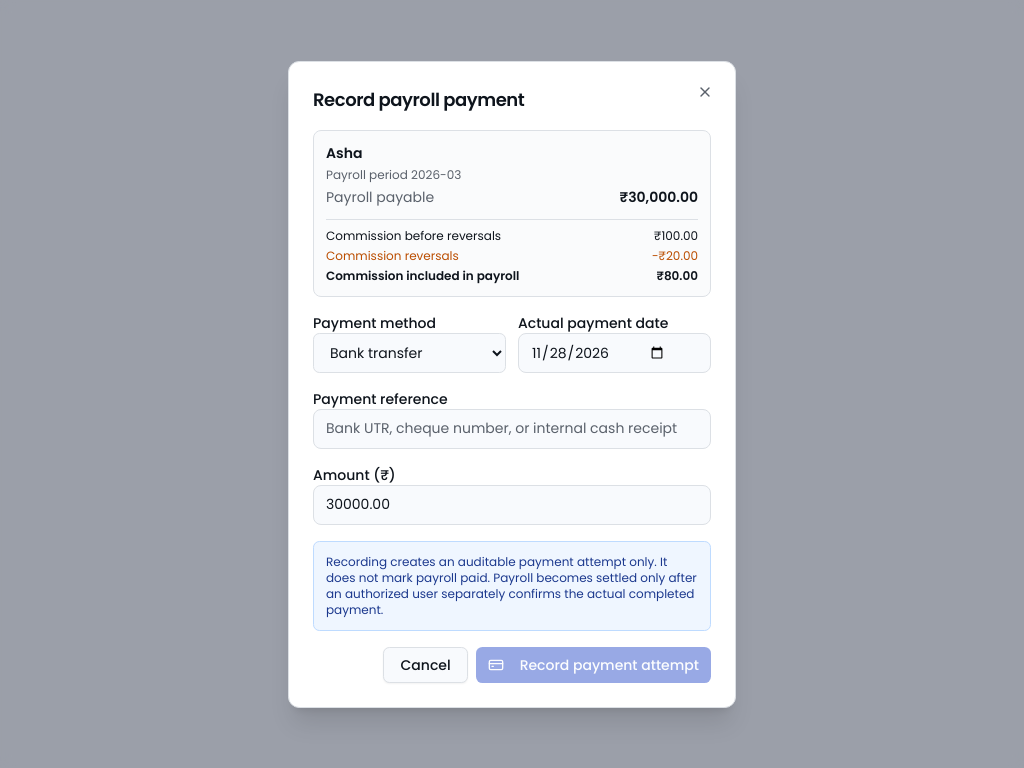
Scenario: PayrollPaymentDialog › blocks recording an amount that differs by one paise
The image size is (1024, 768).
Type "UTR-123" into the field labelled "Payment reference". click: (512, 428)
box: [313,408,711,448]
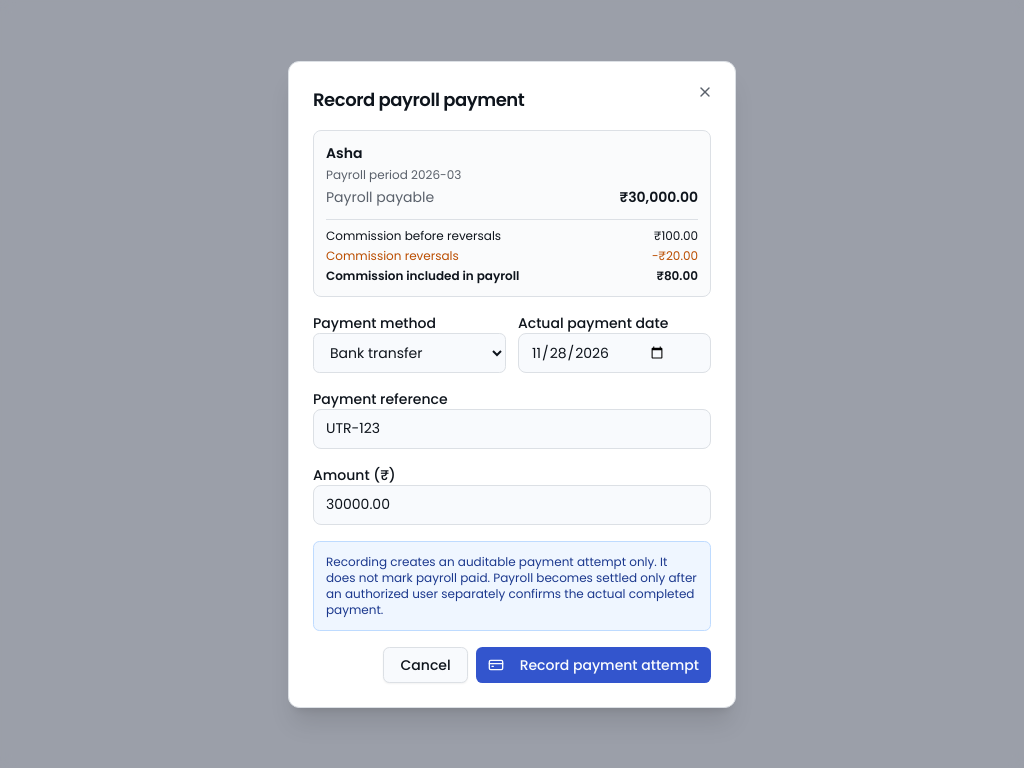
Replace the text in the number field labelled "Amount (₹)" with "30000.01". click: (512, 504)
box: [313,484,711,524]
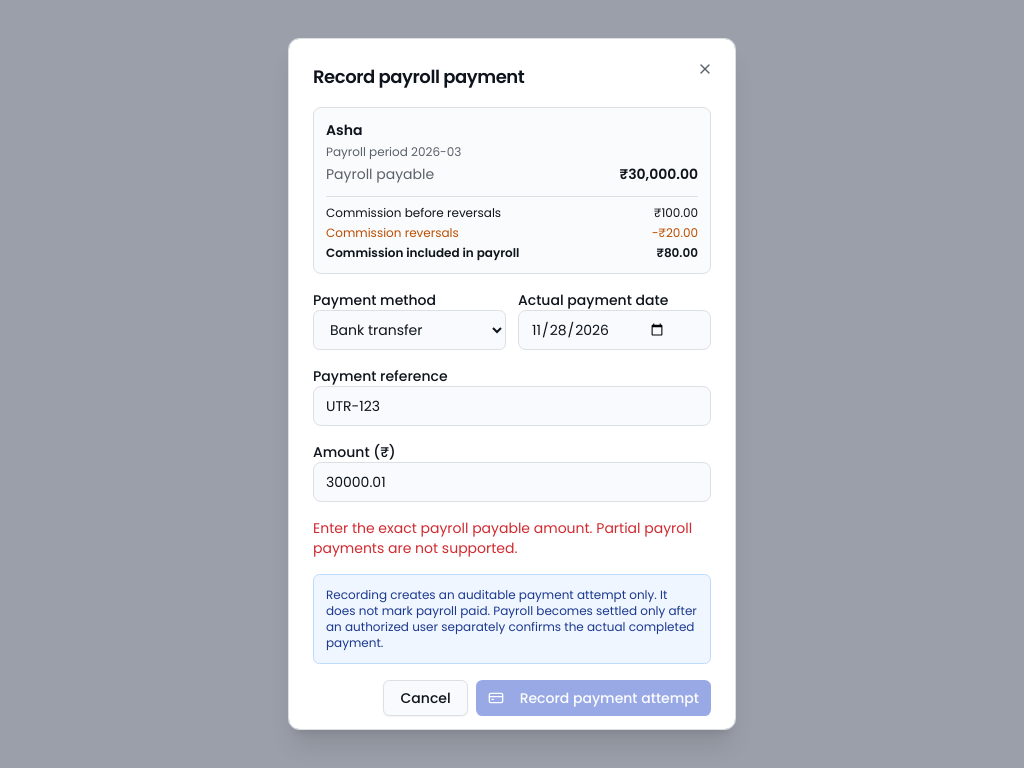
Now the message shows "exact payroll payable amount", box [313,518,692,558]
Now the button "Record payment attempt" is disabled, box [476,680,711,716]
